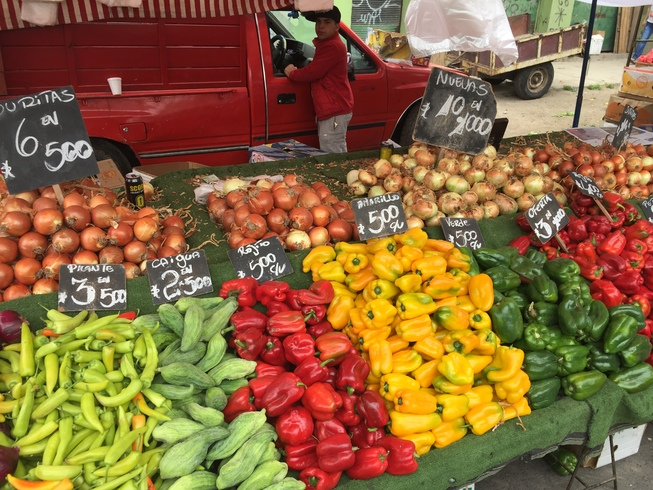precio: (1, 79, 95, 199), (410, 65, 502, 157), (54, 259, 131, 318), (141, 252, 217, 308), (225, 235, 293, 295), (520, 188, 575, 253), (350, 194, 406, 242), (439, 213, 494, 256), (566, 169, 608, 207), (614, 103, 642, 154)
